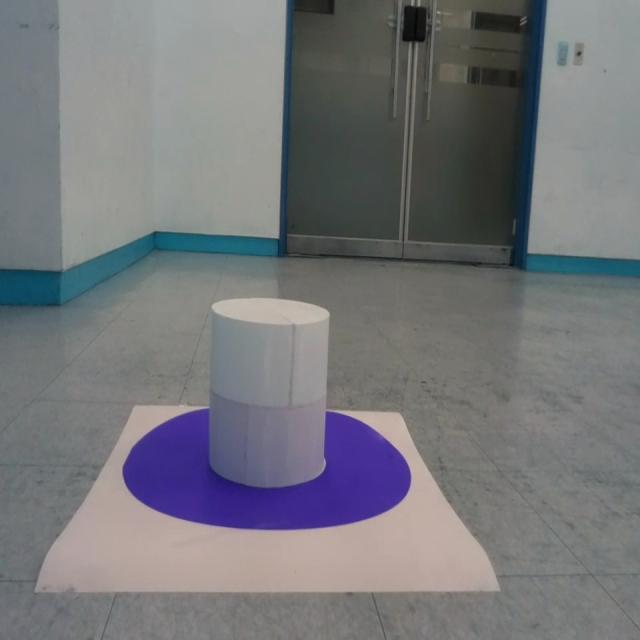cylinder: (208, 297, 331, 487)
